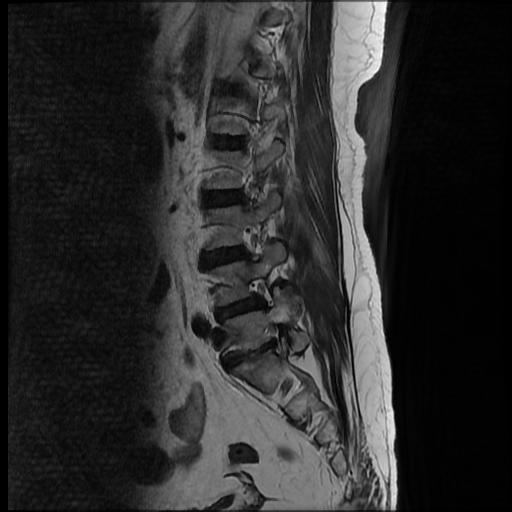LFS0: (240, 268, 283, 315)
